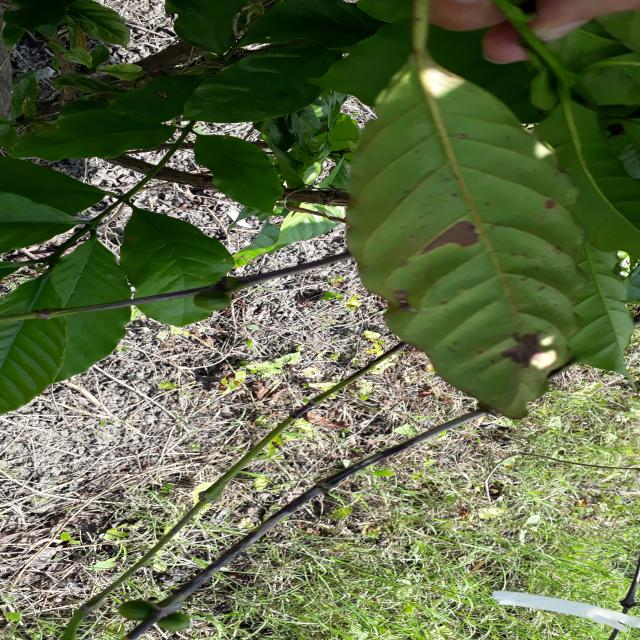Plaga-AranaRoja: (345, 0, 596, 421)
